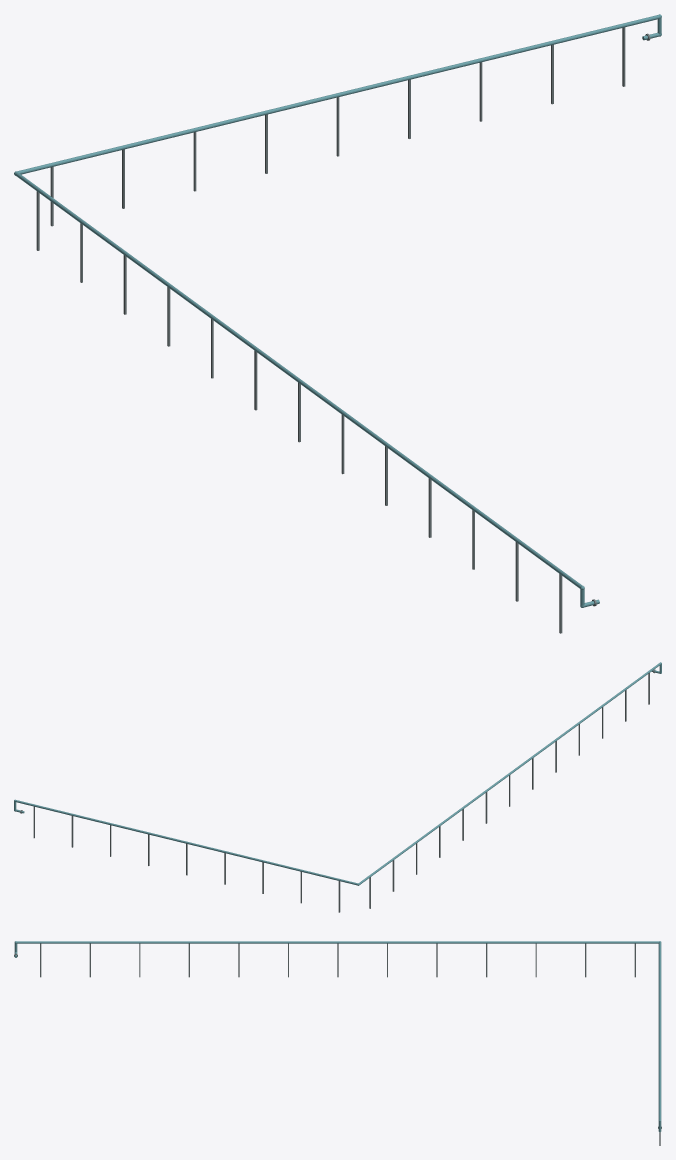
3 renders of one model, top to bottom at view 1: azimuth 30°, elevation 25°; view 2: azimuth 150°, elevation 25°; view 3: azimuth 270°, elevation 25°, orthographic. The views are drawn at different scales.
Parts seen in each view (by area): view 1: render-batch-0, render-batch-1; view 2: render-batch-0, render-batch-1; view 3: render-batch-0, render-batch-1.
Boxes of the visible parts, bbox=[...] form: render-batch-0: bbox=[14, 14, 661, 607]; render-batch-1: bbox=[36, 27, 650, 633]; render-batch-0: bbox=[14, 662, 661, 885]; render-batch-1: bbox=[20, 669, 655, 912]; render-batch-0: bbox=[14, 941, 661, 1132]; render-batch-1: bbox=[14, 943, 661, 1145].
Bounding box in the file's own units: 49.51 × 4.61 × 75.46.
